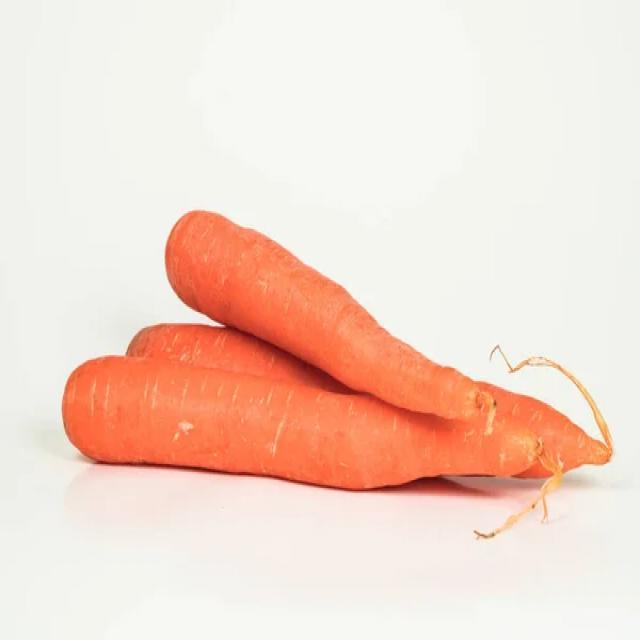Carrot: (125, 318, 614, 486), (164, 210, 496, 430), (49, 354, 552, 496)
